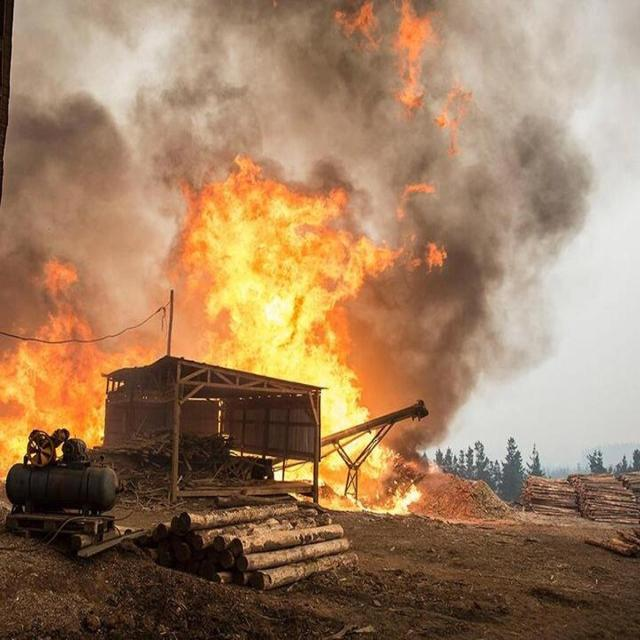Fire: (187, 174, 361, 356), (17, 278, 99, 442), (1, 346, 17, 480)
